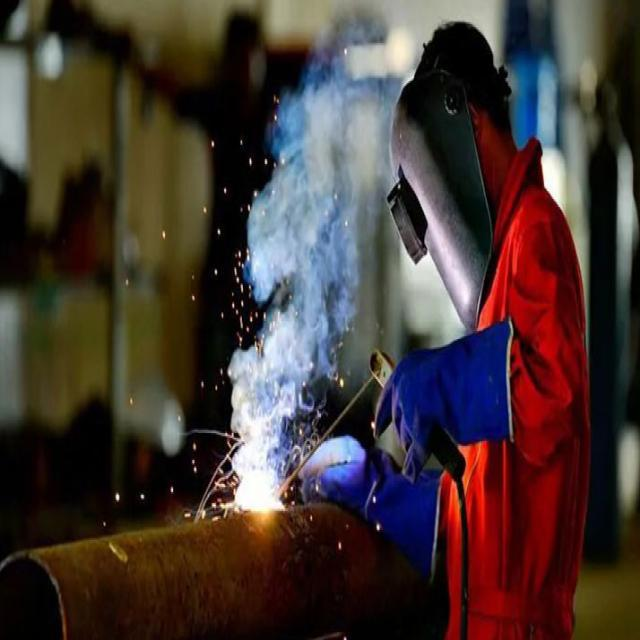with_helmet: (387, 74, 492, 329)
